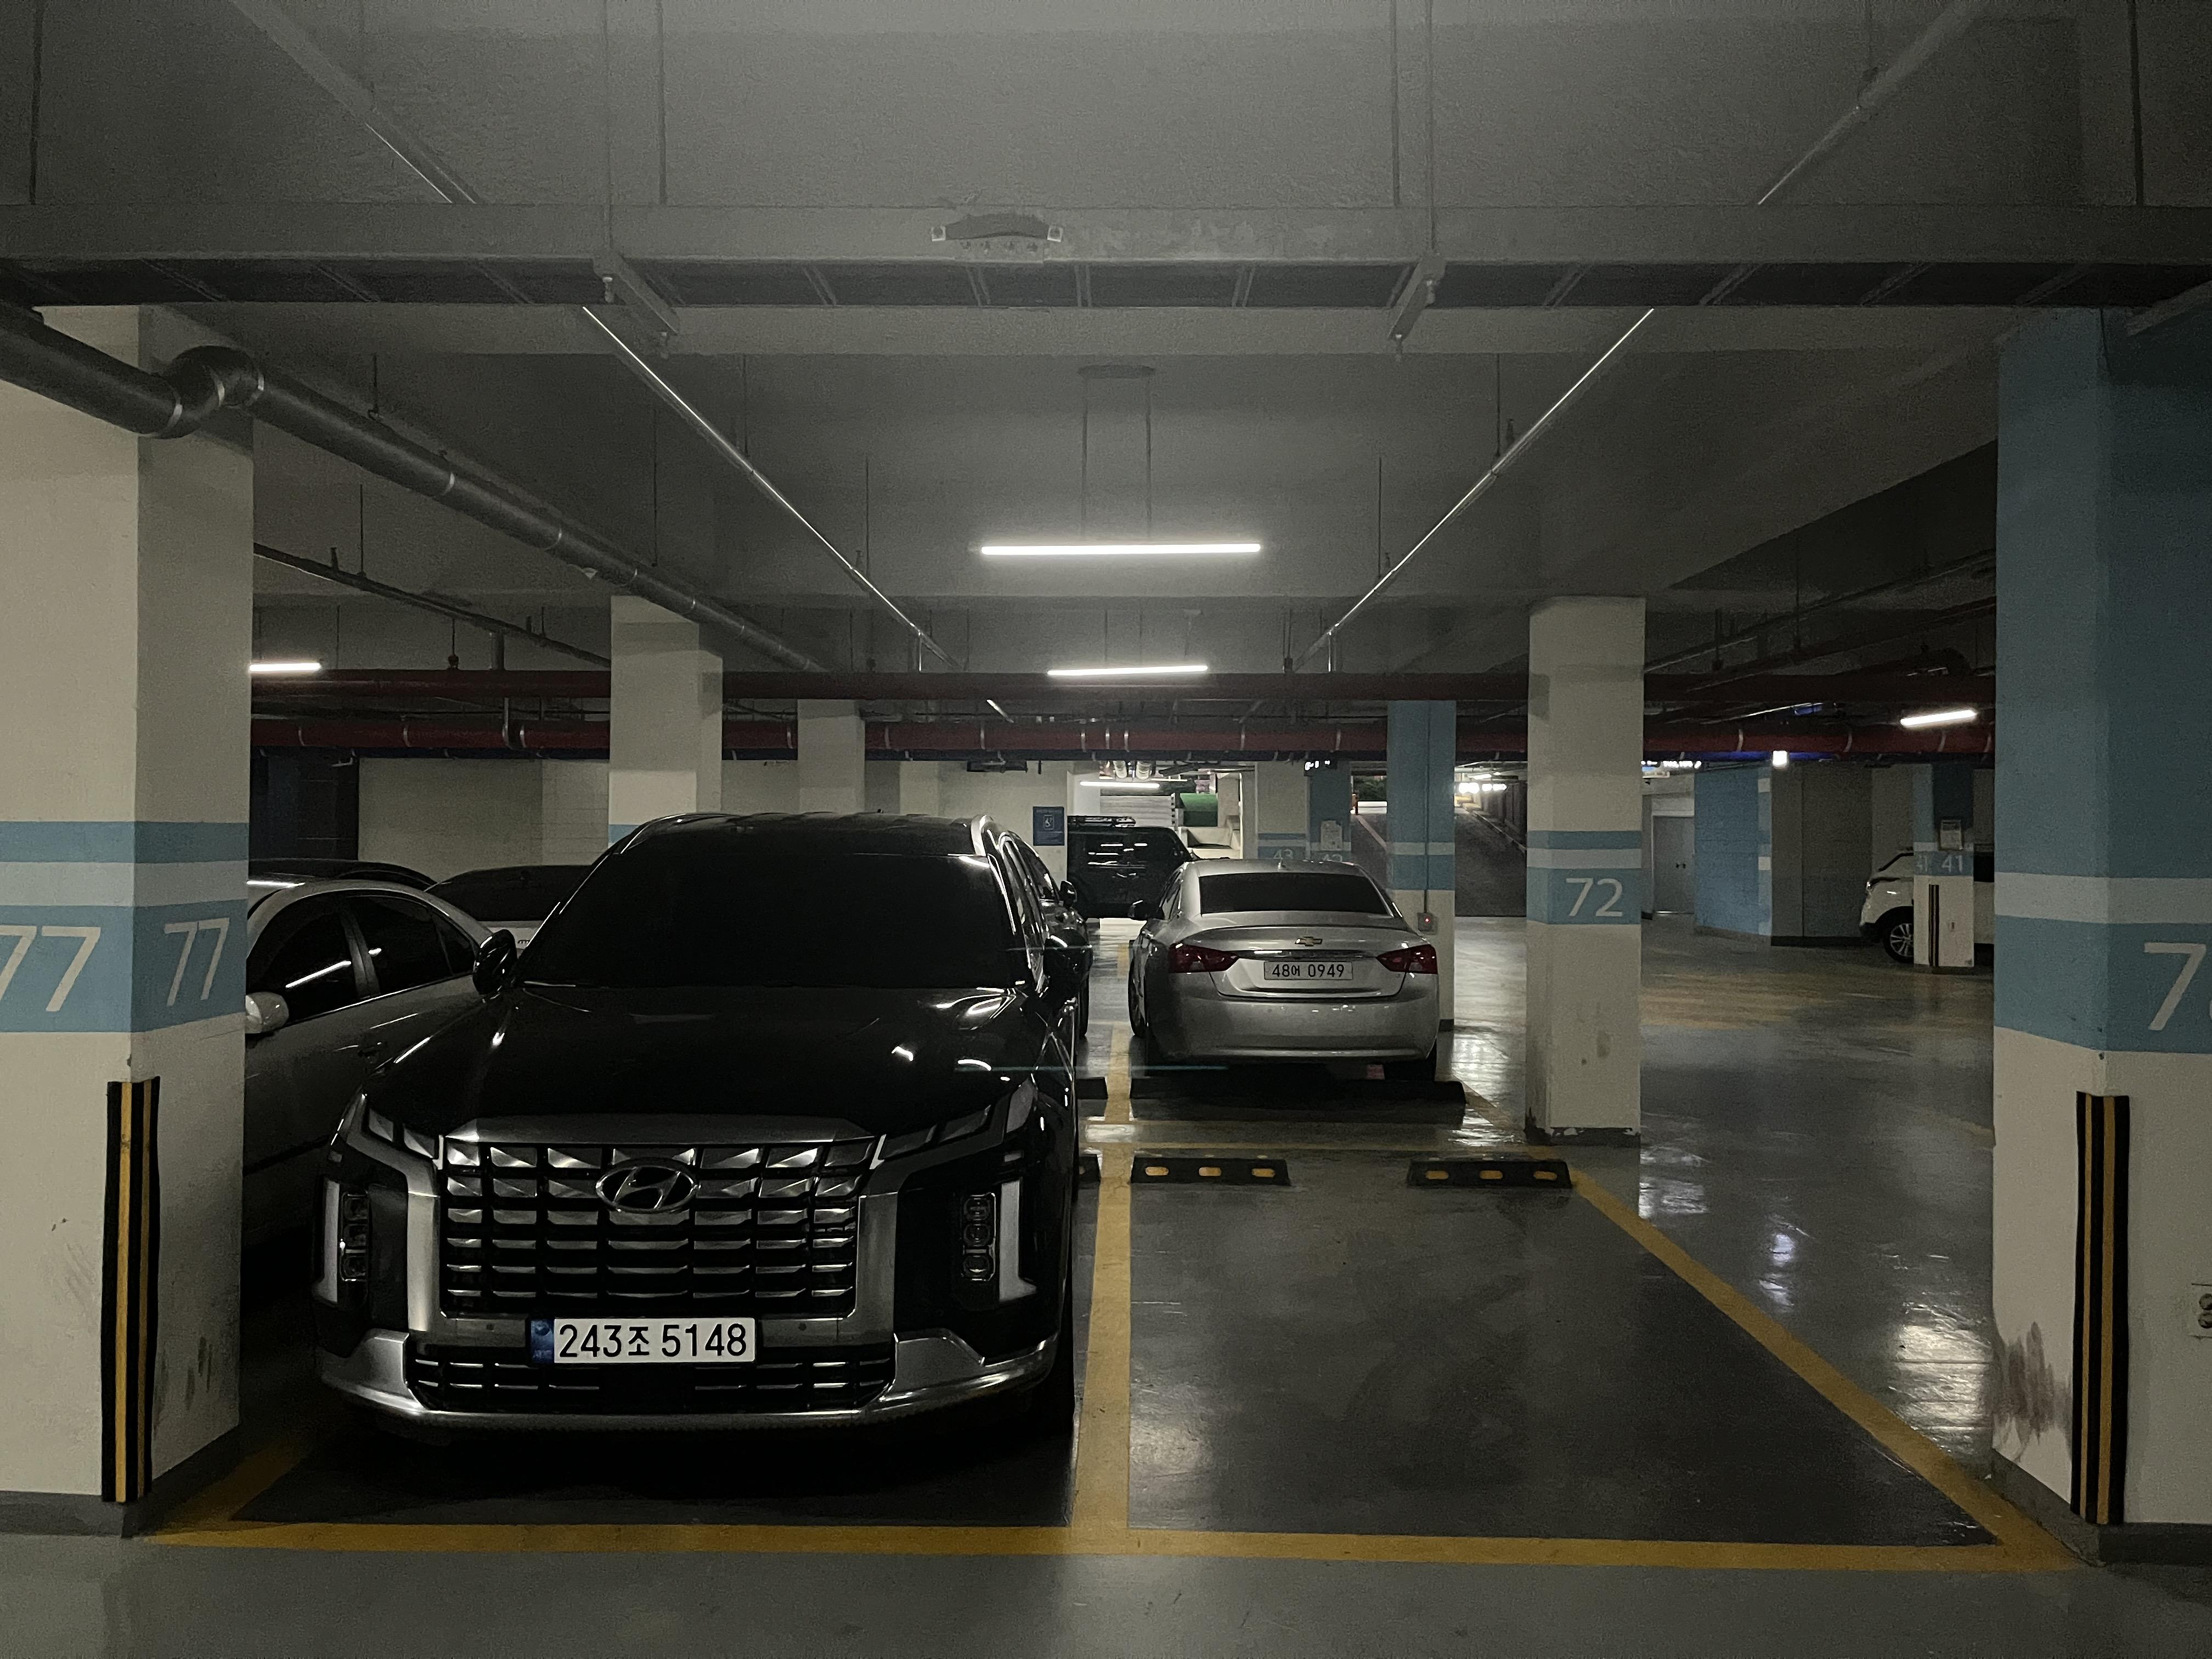empty: (1062, 1128, 2101, 1582)
occupied: (300, 774, 1094, 1545)
